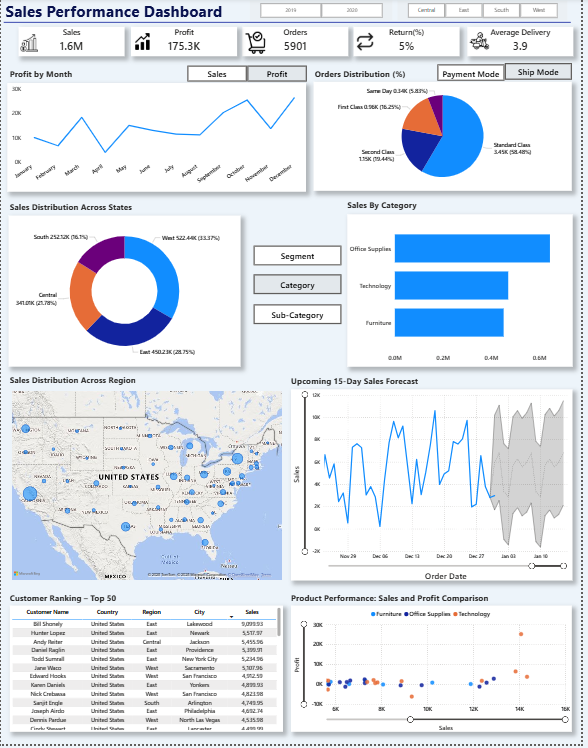

What the dashboard file says about the page in this screenshot:
{"tool":"powerbi","page":{"name":"Sales Performance ","canvas":[1400,1800],"ordinal":0},"visuals":[{"type":"textbox","box":[6.7,0,561.9,63.3],"z":0},{"type":"lineChart","fields":{"Category":["SuperStore_Sales_Dataset.Order Date.Variation.Date Hierarchy.Month"],"Y":["Sum(SuperStore_Sales_Dataset.Sales)"]},"box":[17,205.2,720.7,262.3],"z":1000},{"type":"shape","box":[6.7,37.7,1369,39.1],"z":3000},{"type":"actionButton","title":"Profit1","box":[450.5,163.2,144.1,39],"z":4000},{"type":"actionButton","title":"sales1","box":[593.6,163.2,144.1,39],"z":6000},{"type":"card","title":"Sales","fields":{"Values":["Sum(SuperStore_Sales_Dataset.Sales)"]},"box":[41.8,70.1,256,71.4],"z":11000},{"type":"image","box":[41.8,72.8,51.2,71.4],"z":12000},{"type":"pieChart","title":"payment mode graph","fields":{"Y":["CountNonNull(SuperStore_Sales_Dataset.Order ID)"],"Category":["SuperStore_Sales_Dataset.Payment Mode"]},"box":[754,202.7,621.7,263.1],"z":13000},{"type":"actionButton","title":"payment1","box":[1052.3,160.9,162.5,40.2],"z":14000},{"type":"actionButton","title":"ship1","box":[1214.8,160.9,162.5,40.2],"z":15000},{"type":"shape","title":"sales text","box":[20.1,164.2,160.9,38.5],"z":19000},{"type":"shape","title":"order text","box":[755.7,164.2,219.5,38.5],"z":21000},{"type":"map","fields":{"Size":["Sum(SuperStore_Sales_Dataset.Sales)"],"Category":["SuperStore_Sales_Dataset.State"]},"box":[20.5,942.9,661,464.4],"z":22000},{"type":"shape","title":"profit text","box":[21.5,483.3,303.6,39.2],"z":23000},{"type":"lineChart","title":"Forecasting sales 15 days","fields":{"Y":["Sum(SuperStore_Sales_Dataset.Sales)"],"Category":["SuperStore_Sales_Dataset.Order Date"]},"box":[699.6,945.1,679.4,461.8],"z":24000},{"type":"shape","title":"profit text","box":[699.9,902.9,322.9,41],"z":25000},{"type":"donutChart","title":"Sales by Region","fields":{"Category":["SuperStore_Sales_Dataset.Region"],"Y":["Sum(SuperStore_Sales_Dataset.Sales)"]},"box":[17.4,523.3,560,365],"z":26000},{"type":"clusteredBarChart","title":"graph1","fields":{"Category":["SuperStore_Sales_Dataset.Sub-Category"],"Y":["Sum(SuperStore_Sales_Dataset.Sales)"]},"box":[836.1,521.4,544.6,368.8],"z":27000},{"type":"shape","title":"profit text","box":[20.5,901.9,316.5,38.9],"z":28000},{"type":"actionButton","title":"Button31","box":[608.3,738.4,212.4,48],"z":29000},{"type":"actionButton","title":"Button21","box":[608.3,668.1,212.4,48],"z":30000},{"type":"actionButton","title":"Button11","box":[608.3,596.7,212.4,48.3],"z":31000},{"type":"shape","title":"title 1","box":[836.1,480.8,316.7,38.6],"z":32000},{"type":"tableEx","fields":{"Values":["SuperStore_Sales_Dataset.Customer Name","SuperStore_Sales_Dataset.Country","SuperStore_Sales_Dataset.Region","SuperStore_Sales_Dataset.City","Sum(SuperStore_Sales_Dataset.Sales)"]},"box":[21.5,1465,659.1,304.9],"z":43000},{"type":"shape","title":"profit text","box":[21.6,1426.6,329.2,38.6],"z":44000},{"type":"shape","title":"profit text","box":[698.4,1427.1,484.5,38],"z":46000},{"type":"card","title":"Orders","fields":{"Values":["CountNonNull(SuperStore_Sales_Dataset.Order ID)"]},"box":[581.1,70.1,256,71.4],"z":47000},{"type":"card","title":"Profit","fields":{"Values":["Sum(SuperStore_Sales_Dataset.Profit)"]},"box":[312.6,70.1,256,71.4],"z":48000},{"type":"card","title":"Average Delivery ","fields":{"Values":["Avg(SuperStore_Sales_Dataset.avg. delivery)"]},"box":[1123.8,68.7,256,71.4],"z":49000},{"type":"card","title":"Return(%)","fields":{"Values":["SuperStore_Sales_Dataset.return(%)"]},"box":[850.5,68.7,256,71.4],"z":50000},{"type":"image","box":[312.6,70.1,55.2,71.4],"z":51000},{"type":"image","box":[581.1,71.4,63.3,71.4],"z":52000},{"type":"image","box":[850.5,68.7,56.6,71.4],"z":53000},{"type":"image","box":[1123.8,70.1,59.3,70.1],"z":54000},{"type":"slicer","fields":{"Values":["SuperStore_Sales_Dataset.Region"]},"box":[957.5,5,410,47.5],"z":55000},{"type":"slicer","fields":{"Values":["SuperStore_Sales_Dataset.Order Date.Variation.Date Hierarchy.Year"]},"box":[600,5,343.8,47.5],"z":56000},{"type":"scatterChart","fields":{"X":["Sum(SuperStore_Sales_Dataset.Sales)"],"Y":["Sum(SuperStore_Sales_Dataset.Profit)"],"Category":["SuperStore_Sales_Dataset.Product Name"],"Series":["SuperStore_Sales_Dataset.Category"]},"box":[699,1465.7,677.8,305.1],"z":56001}]}

Visuals, with their boxes in screenshot pixels (x1, y1, x2, y2), scaled from the page's 1400x1800 canvas onto the 588x748 screenshot:
textbox: l=3, t=0, r=239, b=26
lineChart - SuperStore_Sales_Dataset.Order Date.Variation.Date Hierarchy.Month x Sum(SuperStore_Sales_Dataset.Sales): l=7, t=85, r=310, b=194
shape: l=3, t=16, r=578, b=32
"Profit1" actionButton: l=189, t=68, r=250, b=84
"sales1" actionButton: l=249, t=68, r=310, b=84
"Sales" card: l=18, t=29, r=125, b=59
image: l=18, t=30, r=39, b=60
"payment mode graph" pieChart: l=317, t=84, r=578, b=194
"payment1" actionButton: l=442, t=67, r=510, b=84
"ship1" actionButton: l=510, t=67, r=578, b=84
"sales text" shape: l=8, t=68, r=76, b=84
"order text" shape: l=317, t=68, r=410, b=84
map - Sum(SuperStore_Sales_Dataset.Sales) x SuperStore_Sales_Dataset.State: l=9, t=392, r=286, b=585
"profit text" shape: l=9, t=201, r=137, b=217
"Forecasting sales 15 days" lineChart: l=294, t=393, r=579, b=585
"profit text" shape: l=294, t=375, r=430, b=392
"Sales by Region" donutChart: l=7, t=217, r=243, b=369
"graph1" clusteredBarChart: l=351, t=217, r=580, b=370
"profit text" shape: l=9, t=375, r=142, b=391
"Button31" actionButton: l=255, t=307, r=345, b=327
"Button21" actionButton: l=255, t=278, r=345, b=298
"Button11" actionButton: l=255, t=248, r=345, b=268
"title 1" shape: l=351, t=200, r=484, b=216
tableEx - SuperStore_Sales_Dataset.Customer Name x SuperStore_Sales_Dataset.Country: l=9, t=609, r=286, b=735
"profit text" shape: l=9, t=593, r=147, b=609
"profit text" shape: l=293, t=593, r=497, b=609
"Orders" card: l=244, t=29, r=352, b=59
"Profit" card: l=131, t=29, r=239, b=59
"Average Delivery " card: l=472, t=29, r=580, b=58
"Return(%)" card: l=357, t=29, r=465, b=58
image: l=131, t=29, r=154, b=59
image: l=244, t=30, r=271, b=59
image: l=357, t=29, r=381, b=58
image: l=472, t=29, r=497, b=58
slicer - SuperStore_Sales_Dataset.Region: l=402, t=2, r=574, b=22
slicer - SuperStore_Sales_Dataset.Order Date.Variation.Date Hierarchy.Year: l=252, t=2, r=396, b=22
scatterChart - Sum(SuperStore_Sales_Dataset.Sales) x Sum(SuperStore_Sales_Dataset.Profit): l=294, t=609, r=578, b=736
